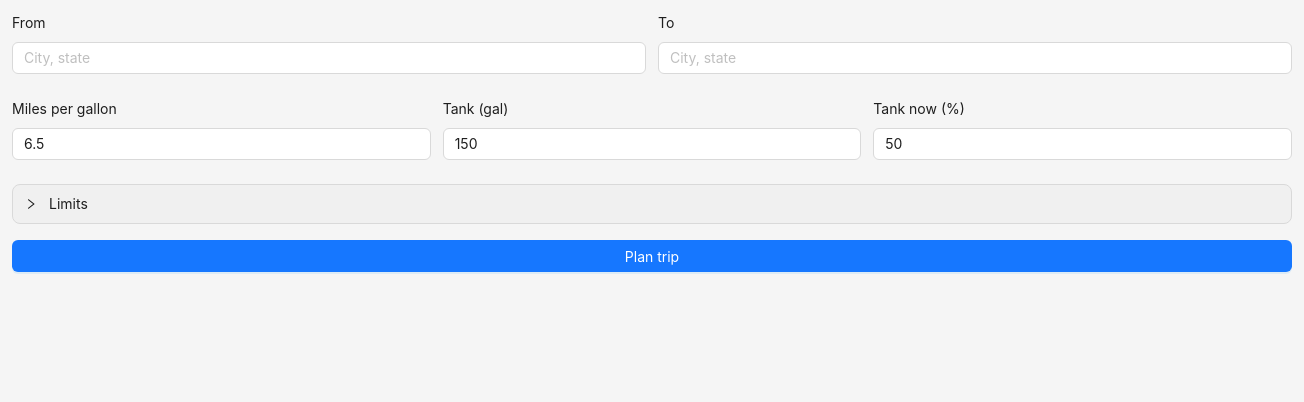
Scenario: fills defaults
This screenshot has width=1304, height=402.
What coordinates should you click on to do the following:
click the button "Limits"
I would click on:
 (56, 204)
Its box is x1=25 y1=195 x2=88 y2=212.
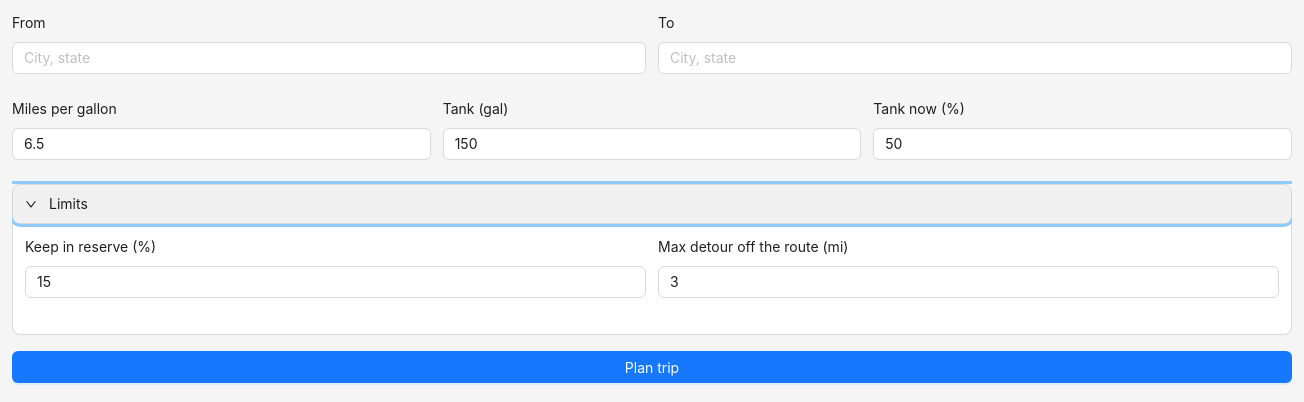
Check: the number field labelled "Miles per gallon" holds "6.5", box x1=13 y1=129 x2=430 y2=159
Check: the number field labelled "Keep in reserve (%)" holds "15", box x1=26 y1=267 x2=645 y2=297
Check: the number field labelled "Max detour off the route (mi)" holds "3", box x1=659 y1=267 x2=1278 y2=297
